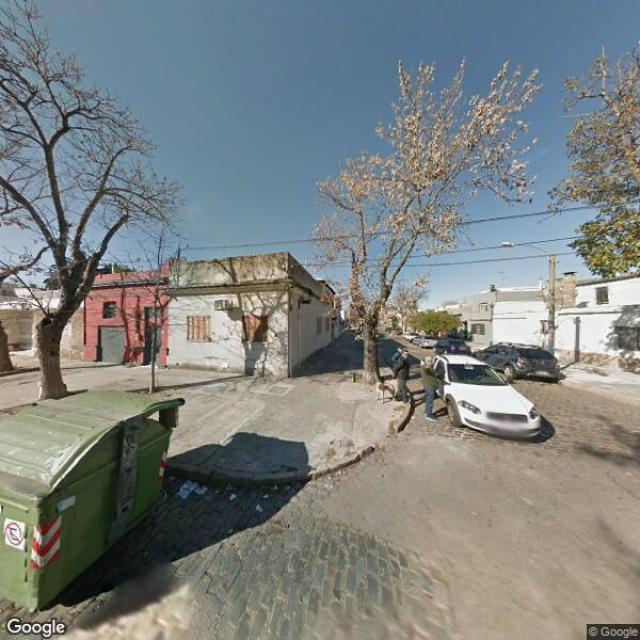garbage container: (2, 381, 190, 616)
